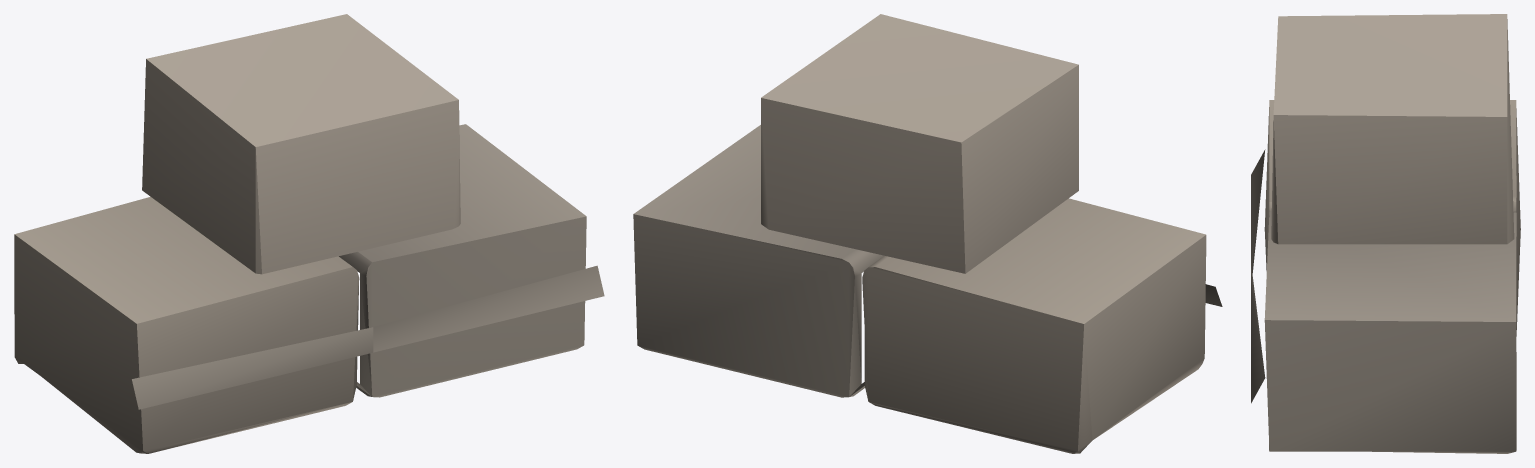
Rendered from crates.lod1.glb.
The picture shows the model from 3 angles, left to right: view 1: azimuth 30°, elevation 25°; view 2: azimuth 150°, elevation 25°; view 3: azimuth 270°, elevation 25°; orthographic projection.
Size of the model in its own units: 1.53 by 0.8798 by 0.7616.
